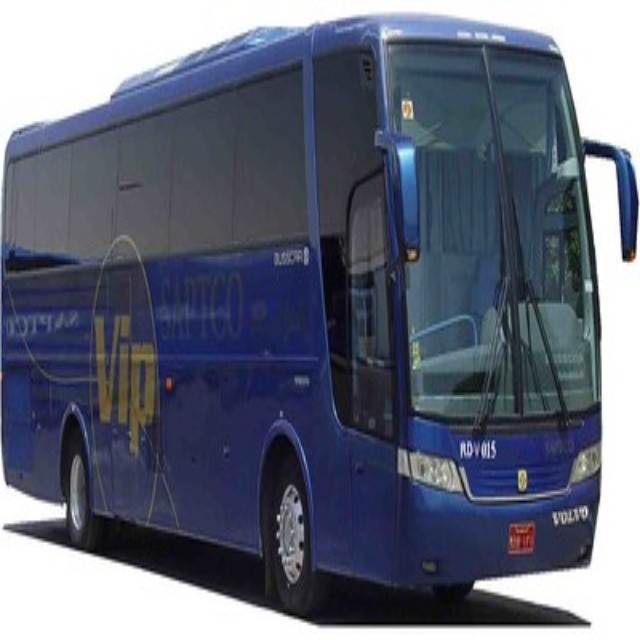Bus: (2, 9, 640, 619)
